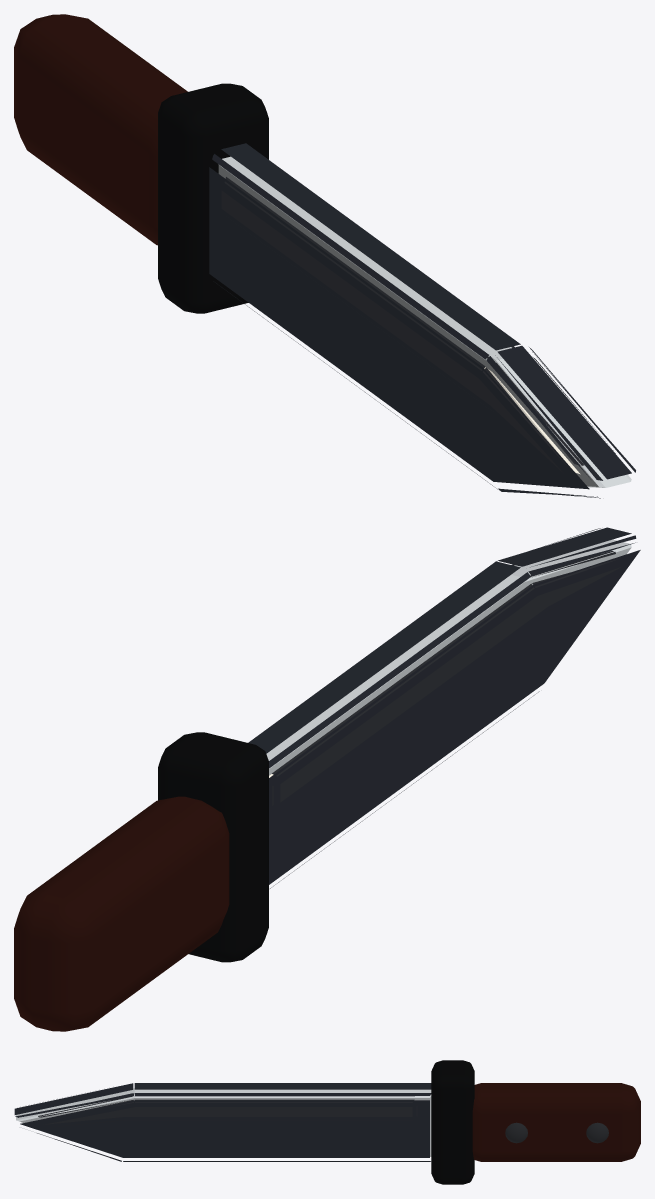
Rendered from knife.glb.
The picture shows the model from 3 angles, top to bottom: view 1: azimuth 30°, elevation 25°; view 2: azimuth 150°, elevation 25°; view 3: azimuth 270°, elevation 25°; orthographic projection. The views are drawn at different scales.
Visible parts, largest first — view 1: Lab_knife_Outline, Lab_knife_Body; view 2: Lab_knife_Outline, Lab_knife_Body; view 3: Lab_knife_Outline, Lab_knife_Body.
Boxes of the visible parts, x1,y1,x2,y2 form: Lab_knife_Outline: [14, 14, 635, 498]; Lab_knife_Body: [218, 156, 631, 487]; Lab_knife_Outline: [14, 527, 640, 1031]; Lab_knife_Body: [266, 539, 631, 777]; Lab_knife_Outline: [14, 1060, 640, 1184]; Lab_knife_Body: [16, 1088, 431, 1156].
Bounding box in the file's own units: 0.1005 × 0.21 × 1.08.
